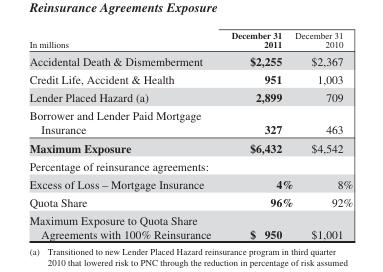table: (28, 29, 352, 240)
table column: (28, 29, 220, 240), (220, 29, 293, 240), (293, 29, 352, 240)
table column header: (28, 29, 352, 51)
table projected row header: (28, 156, 352, 174)
table row: (28, 106, 352, 138), (28, 210, 352, 240), (28, 29, 352, 51), (28, 87, 352, 106), (28, 51, 352, 69), (28, 69, 352, 87), (28, 138, 352, 156), (28, 156, 352, 174), (28, 174, 352, 192), (28, 192, 352, 210)
